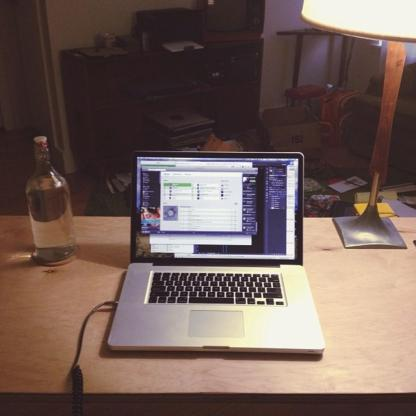board: (98, 152, 324, 361), (24, 136, 79, 267)
